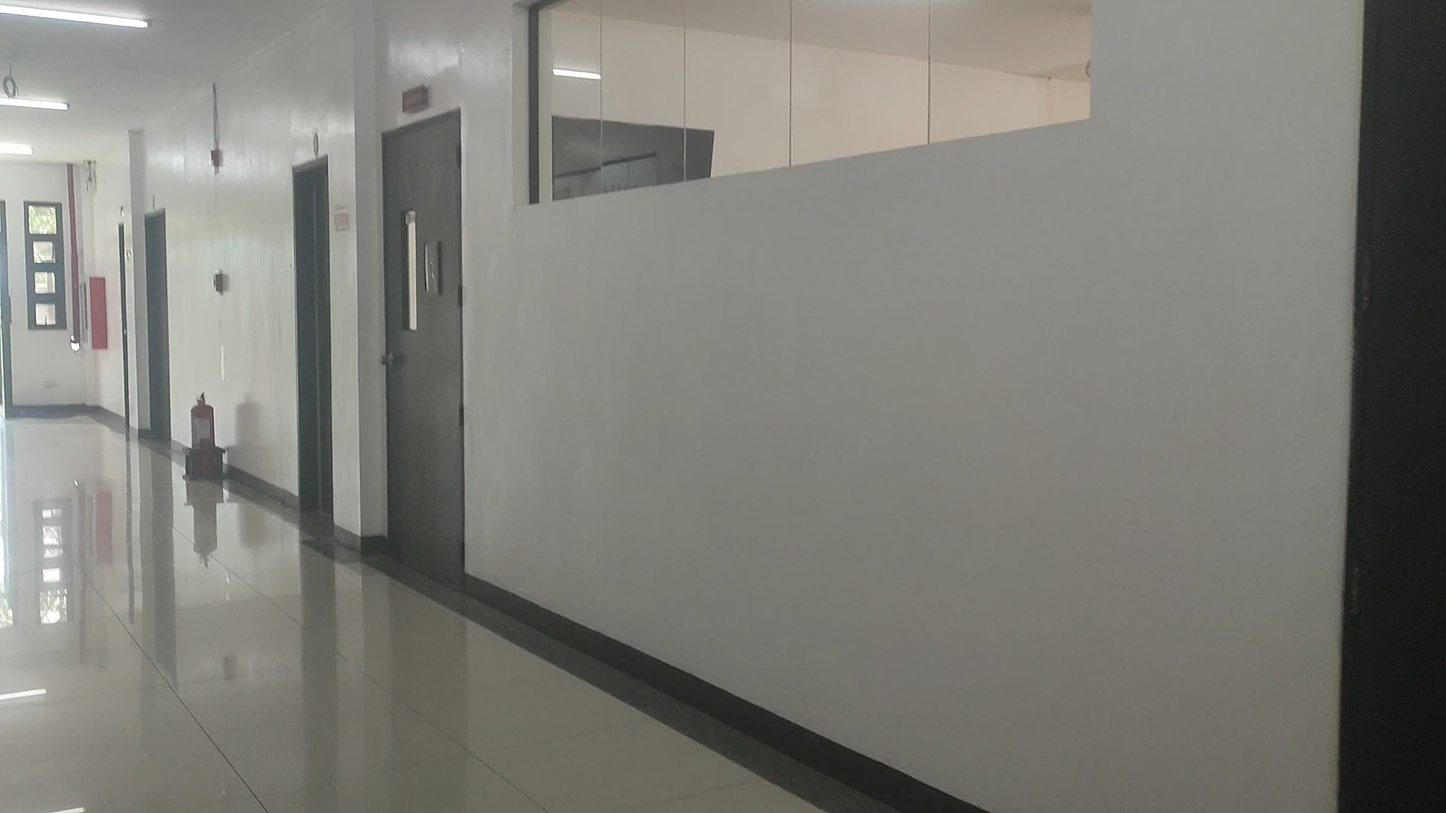door: (381, 109, 467, 593)
